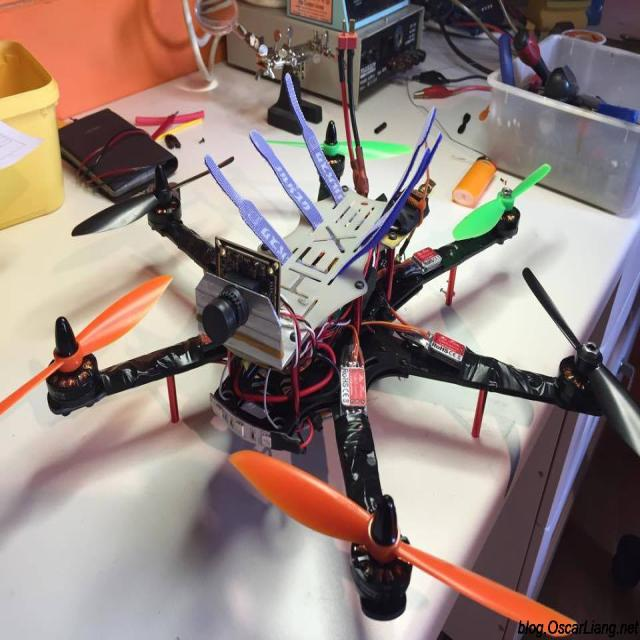drone: (14, 67, 640, 640)
